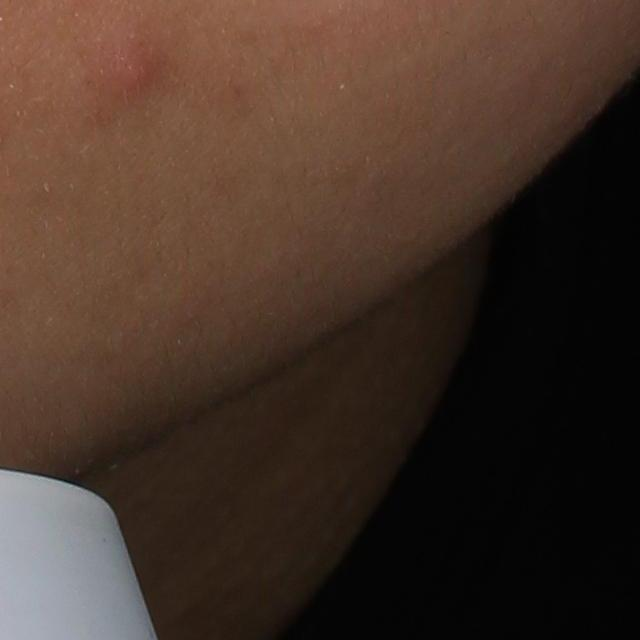papule: (98, 43, 158, 93)
